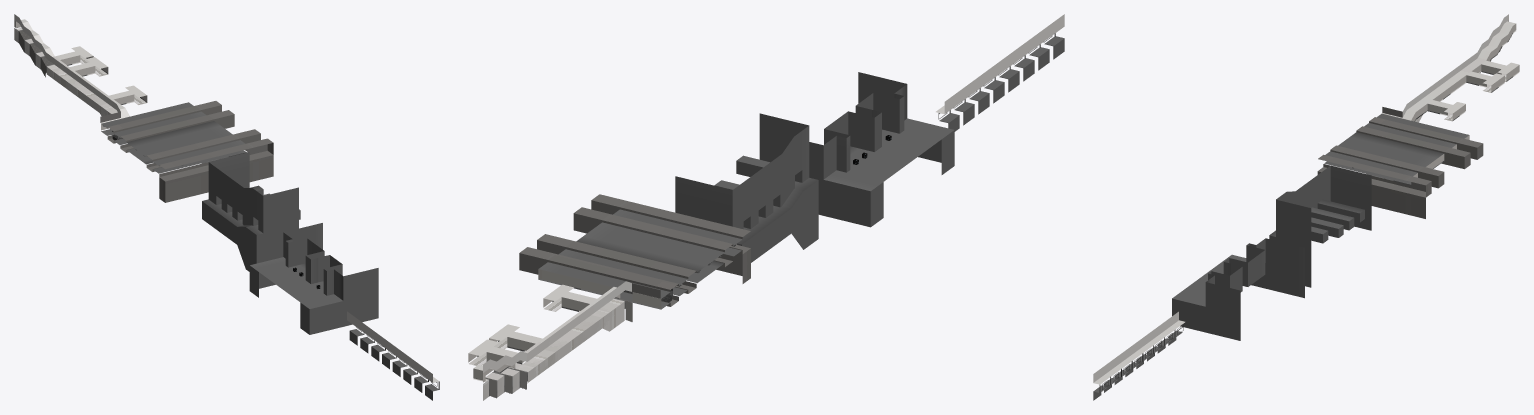
File: liminal.fbx
3 renders of one model, left to right at view 1: azimuth 30°, elevation 25°; view 2: azimuth 150°, elevation 25°; view 3: azimuth 330°, elevation 25°, orthographic. The views are drawn at different scales.
Parts seen in each view (by area): view 1: Station, Plane.005, Yellow, Plane, HallwayMain, Stairs, Hallway3, Hallway3.001, Hallway3.002; view 2: Station, Plane.005, Yellow, Plane, HallwayMain, Stairs, Hallway3, Hallway3.001, Hallway3.002; view 3: Station, Plane.005, Yellow, Plane, HallwayMain, Stairs, Hallway3, Hallway3.001, Hallway3.002.
Part boxes in pixels (left/top/right/bottom): Station: left=100, top=101, right=273, bottom=202; Plane.005: left=249, top=223, right=378, bottom=334; Yellow: left=202, top=152, right=300, bottom=271; Plane: left=347, top=311, right=439, bottom=400; HallwayMain: left=45, top=52, right=129, bottom=117; Stairs: left=14, top=14, right=54, bottom=77; Hallway3: left=109, top=85, right=147, bottom=104; Hallway3.001: left=70, top=57, right=108, bottom=76; Hallway3.002: left=55, top=46, right=93, bottom=65; Station: left=519, top=194, right=750, bottom=321; Plane.005: left=809, top=72, right=954, bottom=227; Yellow: left=675, top=113, right=818, bottom=262; Plane: left=936, top=14, right=1064, bottom=131; HallwayMain: left=514, top=281, right=631, bottom=383; Stairs: left=473, top=351, right=526, bottom=400; Hallway3: left=543, top=284, right=596, bottom=311; Hallway3.001: left=489, top=324, right=542, bottom=351; Hallway3.002: left=468, top=339, right=522, bottom=368; Station: left=1317, top=107, right=1483, bottom=218; Plane.005: left=1172, top=238, right=1304, bottom=340; Yellow: left=1269, top=165, right=1371, bottom=287; Plane: left=1093, top=311, right=1184, bottom=400; HallwayMain: left=1402, top=52, right=1486, bottom=122; Stairs: left=1478, top=14, right=1516, bottom=73; Hallway3: left=1427, top=100, right=1465, bottom=121; Hallway3.001: left=1466, top=71, right=1504, bottom=92; Hallway3.002: left=1481, top=60, right=1519, bottom=81.
Size of the model in its own units: 3722 by 24673 by 2835.
